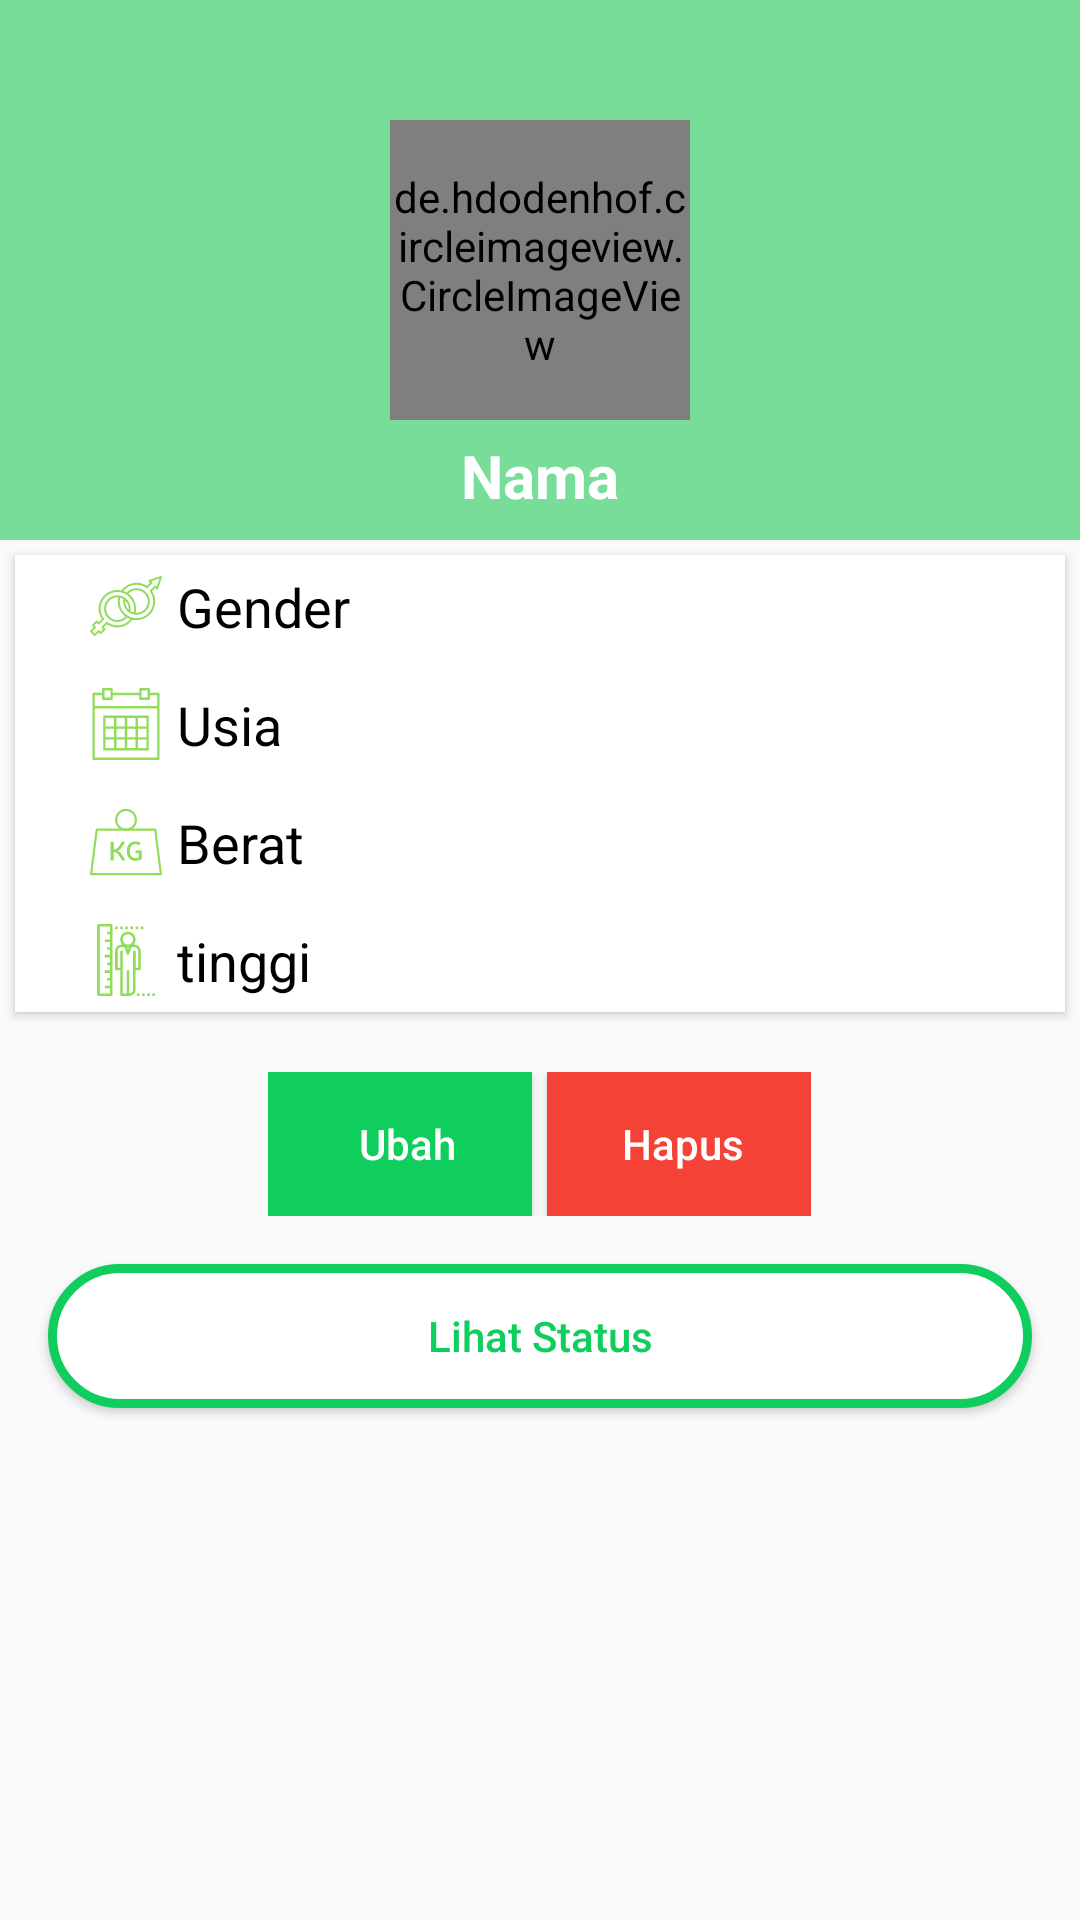

Icon bounding boxes for this 1080x1920 phone screenshot, format [x1, y1, x2, y2]:
calendar: [92, 688, 160, 760]
height: [97, 924, 155, 996]
weight: [90, 809, 162, 876]
